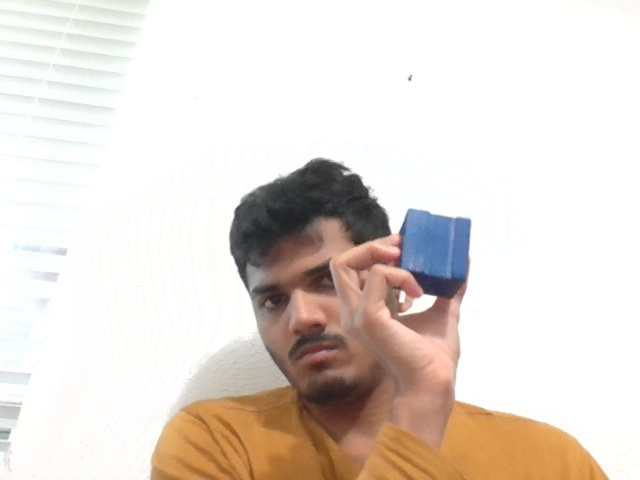BlueBlock: (397, 208, 470, 299)
